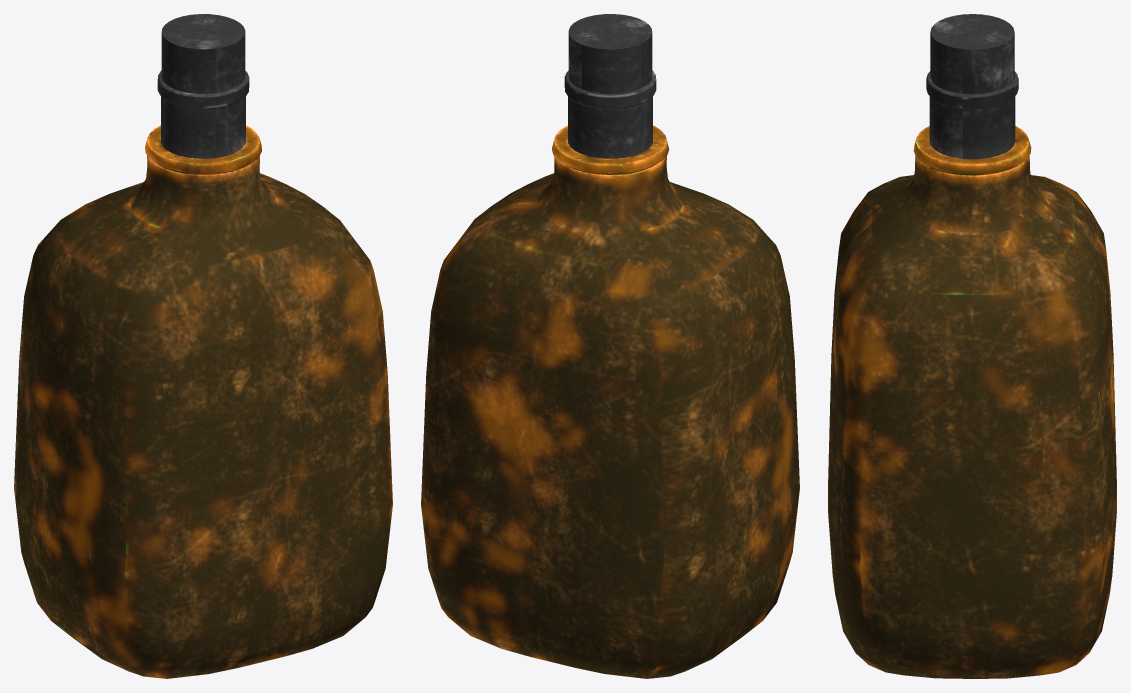
File: Whisky 2 .fbx
3 renders of one model, left to right at view 1: azimuth 30°, elevation 25°; view 2: azimuth 150°, elevation 25°; view 3: azimuth 270°, elevation 25°, orthographic.
Parts seen in each view (by area): view 1: Cube.001; view 2: Cube.001; view 3: Cube.001.
Part boxes in pixels (x1,y1,x2,y2): Cube.001: (14, 14, 392, 678); Cube.001: (421, 14, 799, 678); Cube.001: (828, 14, 1116, 678).
Size of the model in its own units: 16.67 by 31.84 by 13.64.
